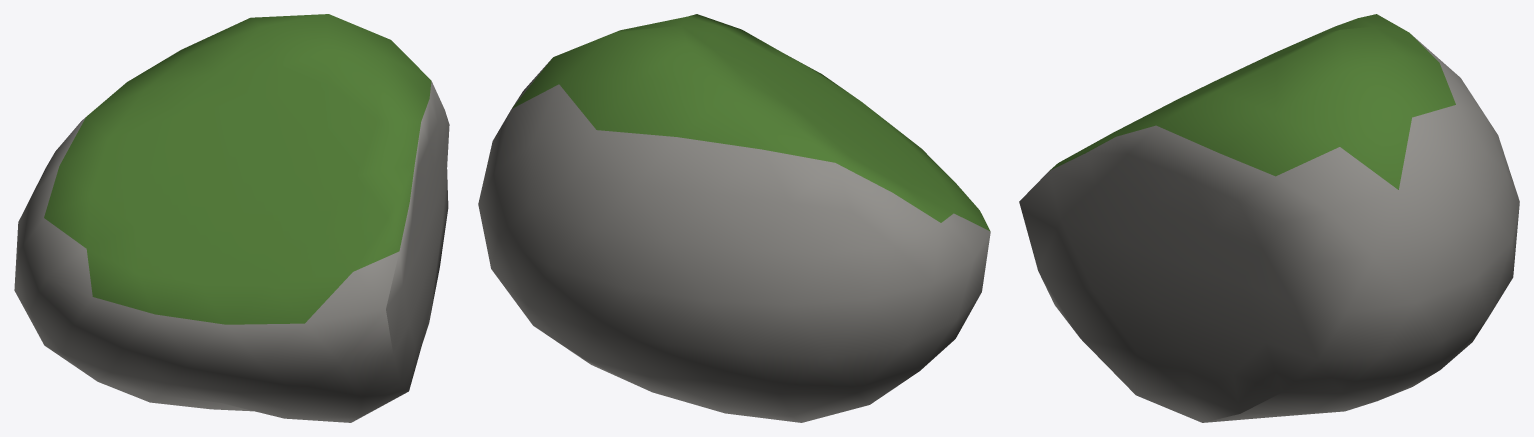
File: boulder_f.glb
3 views of the same model, side by side, from view 1: azimuth 30°, elevation 25°; view 2: azimuth 150°, elevation 25°; view 3: azimuth 270°, elevation 25° (orthographic). The views are drawn at different scales.
Parts seen in each view (by area): view 1: boulder_f; view 2: boulder_f; view 3: boulder_f.
Part boxes in pixels (x1,y1,x2,y2): boulder_f: [14, 14, 449, 422]; boulder_f: [478, 14, 990, 422]; boulder_f: [1019, 14, 1519, 422].
Bounding box in the file's own units: 6 × 4.58 × 5.51.
